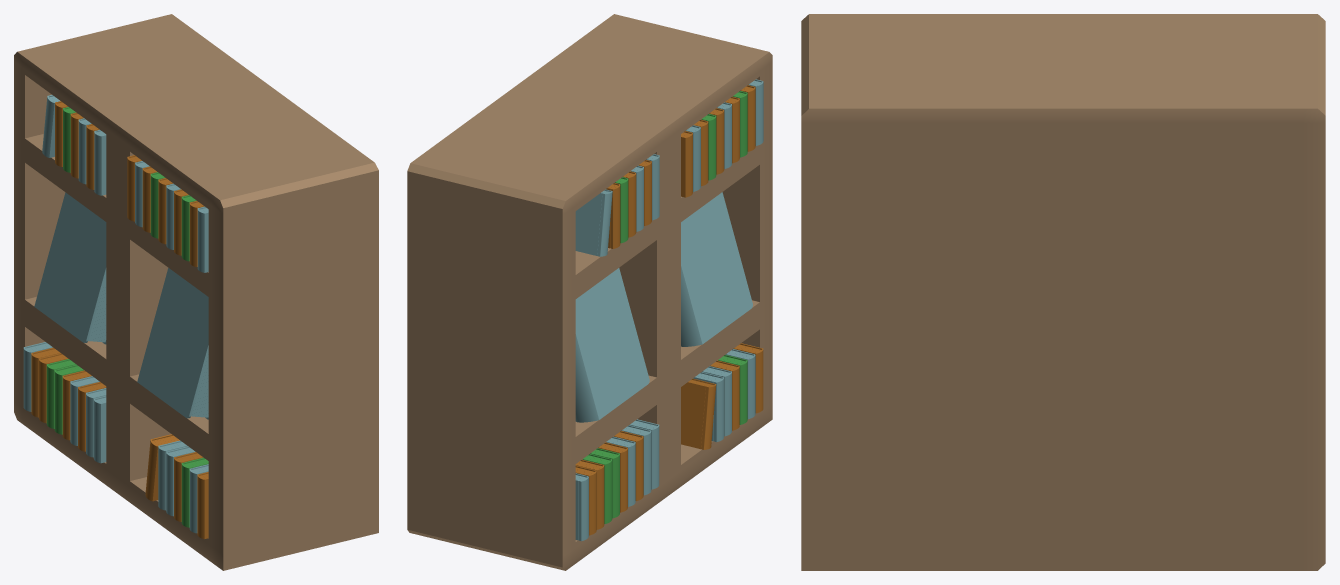
File: lilili.fbx
3 views of the same model, side by side, from view 1: azimuth 30°, elevation 25°; view 2: azimuth 150°, elevation 25°; view 3: azimuth 270°, elevation 25° (orthographic). The views are drawn at different scales.
Parts seen in each view (by area): view 1: Cube_3, note_1, note, note_10, note_15, note_34, note_13, note_19, note_14, note_16, note_18, note_6 (+25 smaller); view 2: Cube_3, note_1, note, note_15, note_35, note_18, note_8, note_28, note_10, note_13, note_3, note_2 (+25 smaller); view 3: Cube_3.
Part boxes in pixels (x1=…): Cube_3: x1=14, y1=14, x2=378, y2=570; note_1: x1=34, y1=192, x2=106, y2=344; note: x1=137, y1=268, x2=208, y2=419; note_10: x1=93, y1=395, x2=106, y2=463; note_15: x1=145, y1=434, x2=179, y2=501; note_34: x1=94, y1=129, x2=106, y2=195; note_13: x1=197, y1=472, x2=208, y2=538; note_19: x1=197, y1=206, x2=208, y2=272; note_14: x1=54, y1=364, x2=83, y2=434; note_16: x1=62, y1=370, x2=91, y2=440; note_18: x1=23, y1=342, x2=52, y2=411; note_6: x1=46, y1=359, x2=76, y2=428; Cube_3: x1=407, y1=14, x2=772, y2=570; note_1: x1=575, y1=268, x2=649, y2=422; note: x1=681, y1=192, x2=752, y2=346; note_15: x1=681, y1=378, x2=716, y2=449; note_35: x1=575, y1=189, x2=612, y2=256; note_18: x1=575, y1=473, x2=588, y2=541; note_8: x1=693, y1=372, x2=723, y2=442; note_28: x1=681, y1=131, x2=692, y2=197; note_10: x1=629, y1=419, x2=659, y2=489; note_13: x1=733, y1=343, x2=763, y2=413; note_3: x1=614, y1=431, x2=643, y2=500; note_2: x1=621, y1=425, x2=651, y2=495; Cube_3: x1=801, y1=14, x2=1325, y2=570.
Size of the model in its own units: 246 by 528 by 543.
